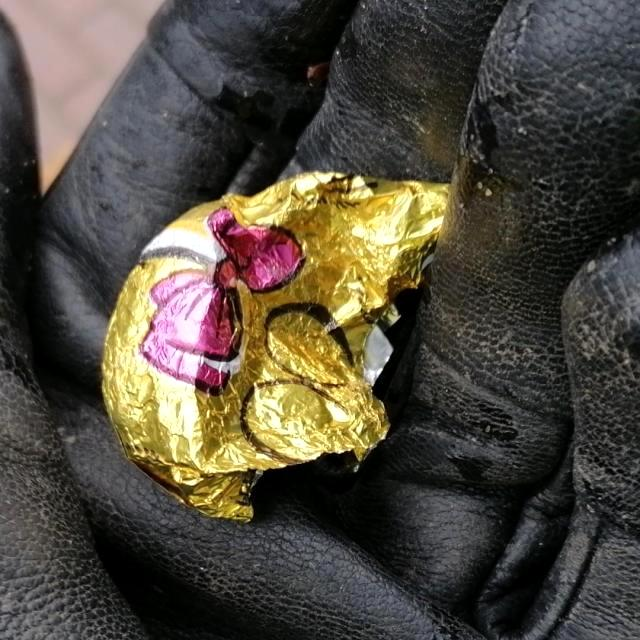Plastic: (96, 167, 454, 529)
